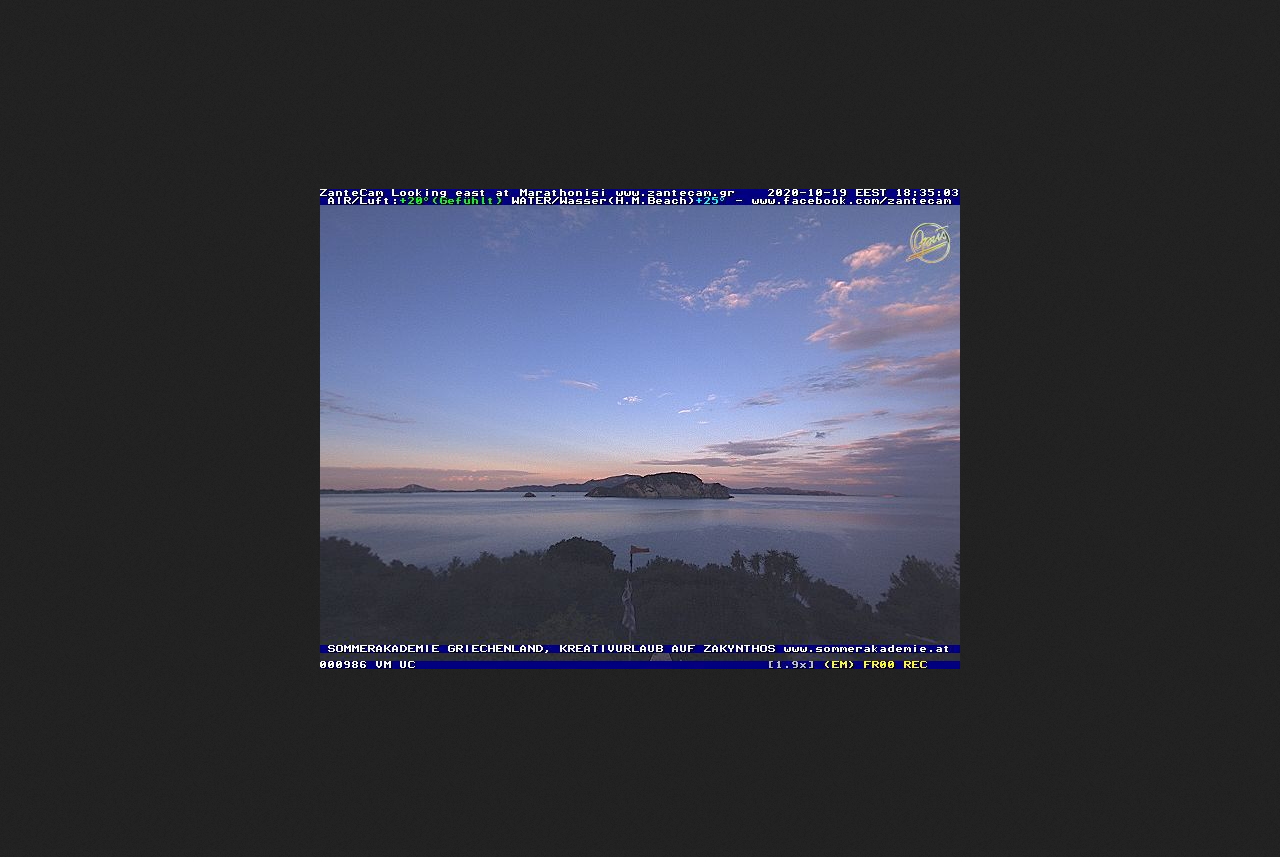no: (618, 572, 643, 638)
